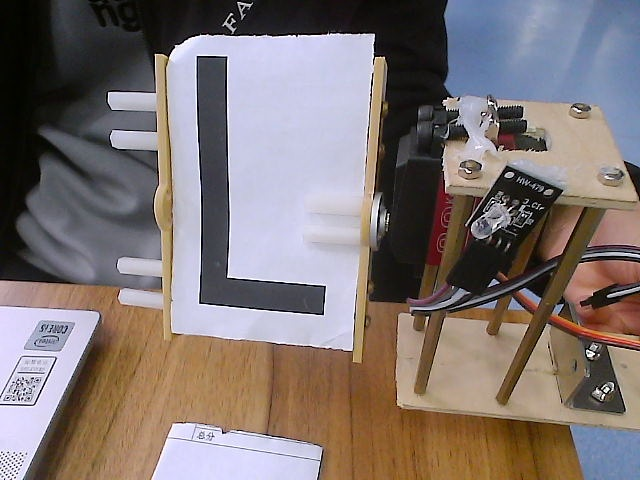L: (88, 16, 433, 374)
